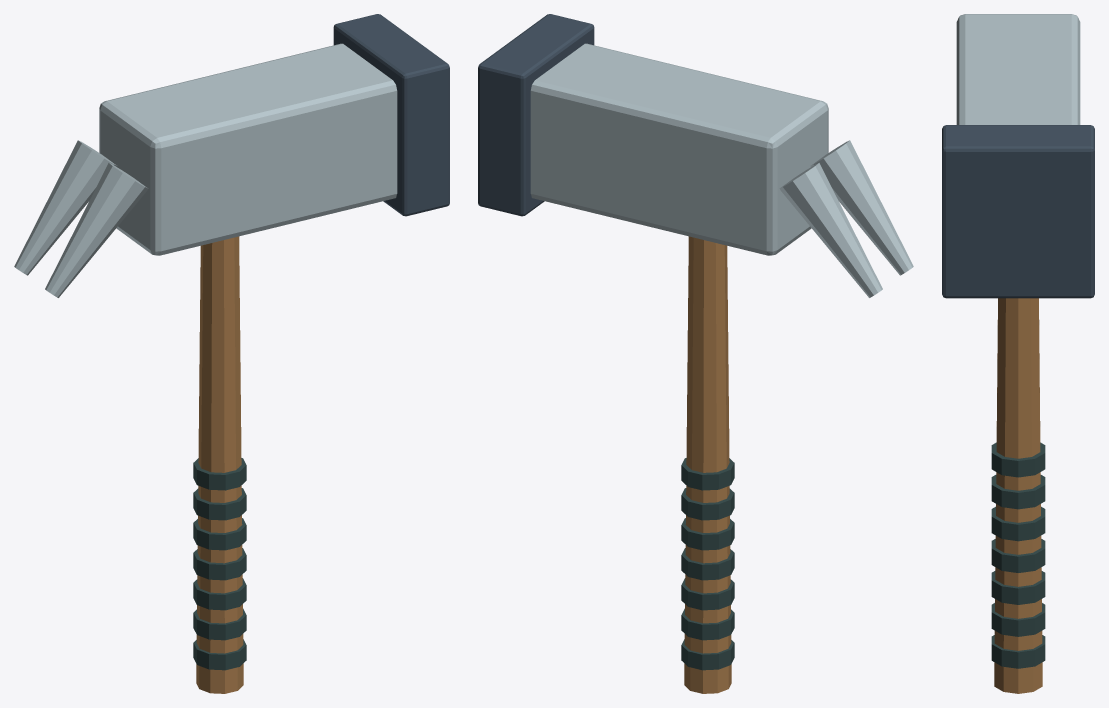
Rendered from hammer.glb.
3 renders of one model, left to right at view 1: azimuth 30°, elevation 25°; view 2: azimuth 150°, elevation 25°; view 3: azimuth 270°, elevation 25°, orthographic. The views are drawn at different scales.
Visible parts, largest first — view 1: hammer; view 2: hammer; view 3: hammer.
Boxes of the visible parts, x1,y1,x2,y2 form: hammer: (14, 14, 449, 693); hammer: (478, 14, 913, 693); hammer: (942, 14, 1094, 693).
Bounding box in the file's own units: 0.6493 × 0.965 × 0.21.
